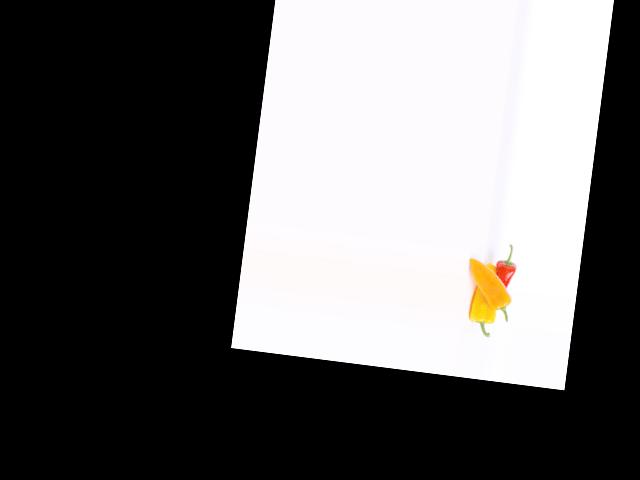bell_pepper: (461, 278, 503, 340)
